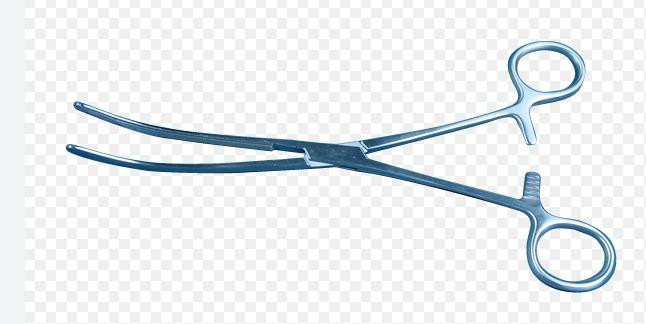Doyel Instestinal Forceps: (62, 39, 620, 288)
